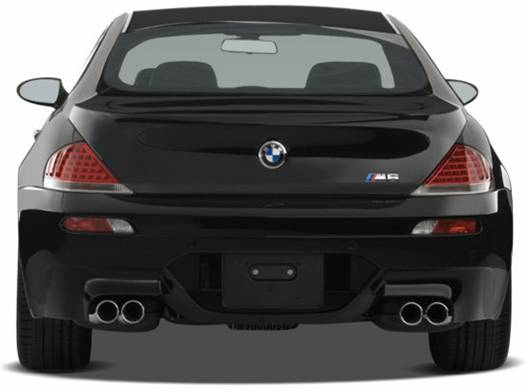bmw: (5, 5, 517, 379)
